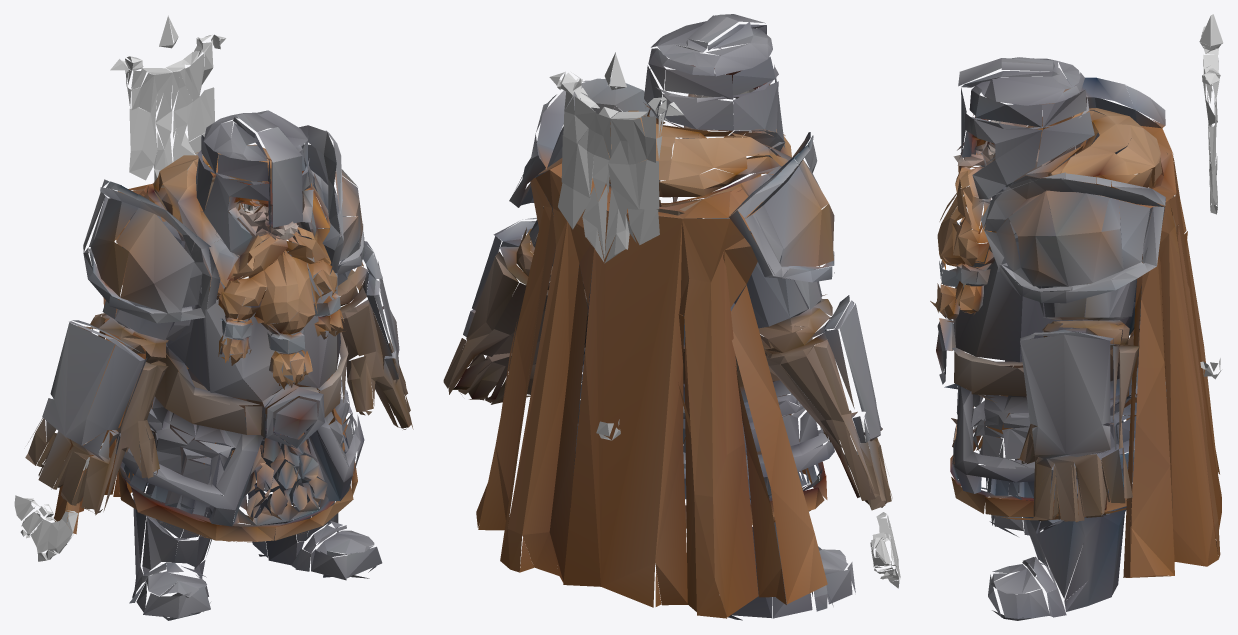
File: general.glb
The picture shows the model from 3 angles, left to right: view 1: azimuth 30°, elevation 25°; view 2: azimuth 150°, elevation 25°; view 3: azimuth 270°, elevation 25°; orthographic projection. The views are drawn at different scales.
Parts seen in each view (by area): view 1: general; view 2: general; view 3: general.
Boxes of the visible parts, <box> form: general: <box>14,15,413,620</box>; general: <box>443,14,900,620</box>; general: <box>930,14,1223,620</box>.
Bounding box in the file's own units: 1.5 × 1.91 × 0.9277.
